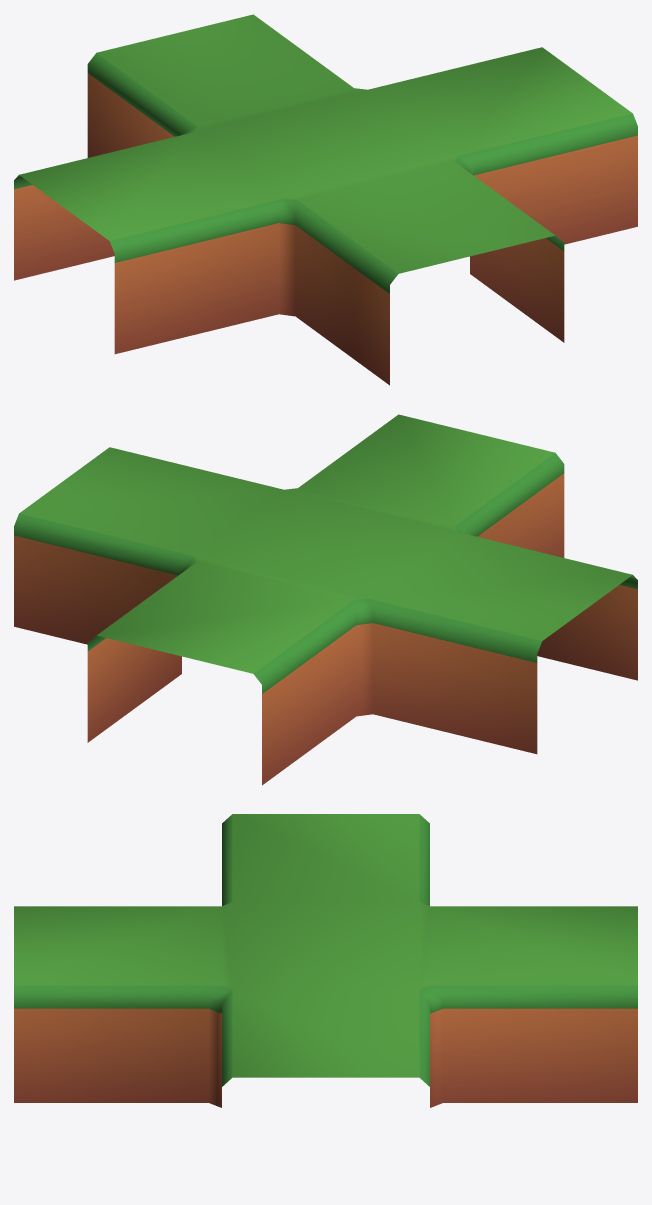
Rendered from Cross Junction 01.FBX.
The picture shows the model from 3 angles, top to bottom: view 1: azimuth 30°, elevation 25°; view 2: azimuth 150°, elevation 25°; view 3: azimuth 270°, elevation 25°; orthographic projection. The views are drawn at different scales.
Visible parts, largest first — view 1: Cross Junction 01; view 2: Cross Junction 01; view 3: Cross Junction 01.
Boxes of the visible parts, x1,y1,x2,y2 form: Cross Junction 01: (14,14,637,385); Cross Junction 01: (14,414,637,785); Cross Junction 01: (14,814,637,1107).
Bounding box in the file's own units: 1500 × 300 × 1500.
1 material, 1 textured.
